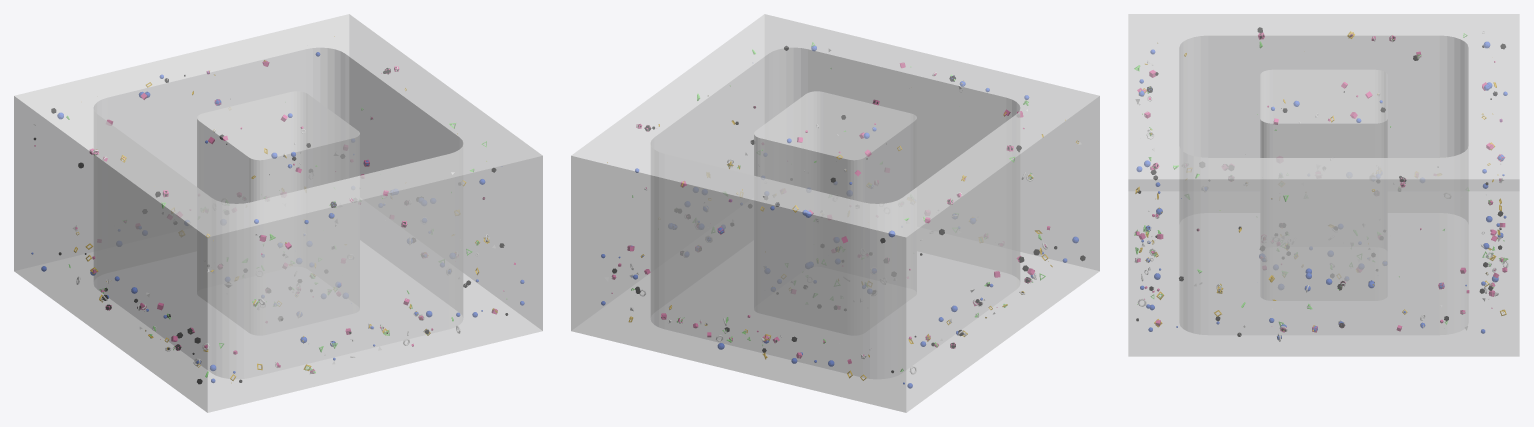
File: exteriorwalls.glb
The picture shows the model from 3 angles, left to right: view 1: azimuth 30°, elevation 25°; view 2: azimuth 150°, elevation 25°; view 3: azimuth 270°, elevation 25°; orthographic projection.
Parts seen in each view (by area): view 1: Exterior wall volume; view 2: Exterior wall volume; view 3: Exterior wall volume.
Boxes of the visible parts, bbox=[...] form: Exterior wall volume: bbox=[14, 14, 542, 412]; Exterior wall volume: bbox=[571, 14, 1099, 412]; Exterior wall volume: bbox=[1128, 14, 1519, 356].
Bounding box in the file's own units: 52.82 × 36.19 × 52.82.
6 materials, 1 textured.
